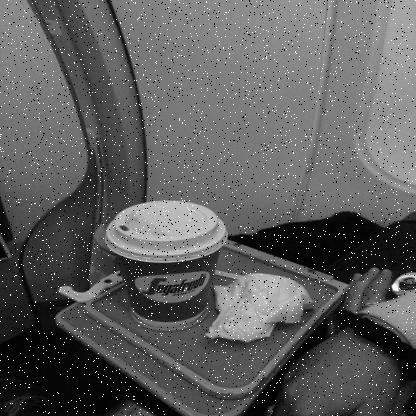cardboard: (105, 200, 229, 329)
paper: (204, 272, 314, 344)
